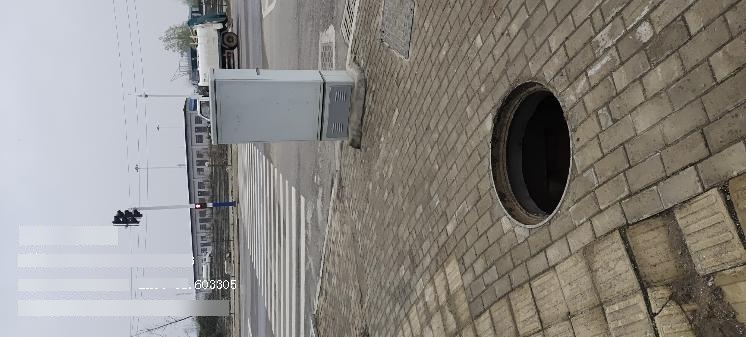lose: (489, 81, 573, 229)
